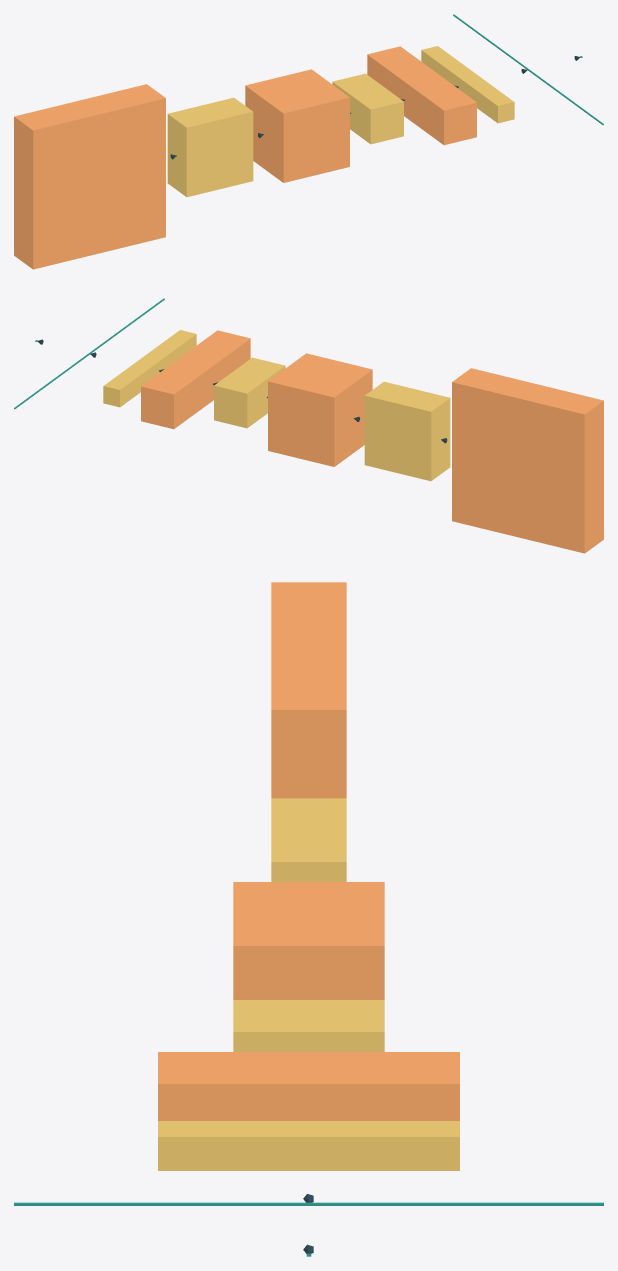
3 renders of one model, top to bottom at view 1: azimuth 30°, elevation 25°; view 2: azimuth 150°, elevation 25°; view 3: azimuth 270°, elevation 25°, orthographic. The views are drawn at different scales.
Size of the model in its own units: 538 by 128 by 250.
